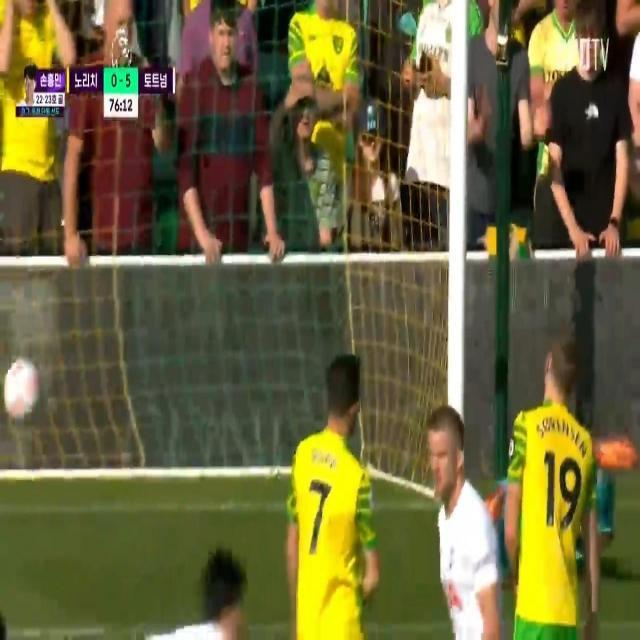ball: (1, 345, 66, 428)
player: (286, 337, 383, 640), (513, 329, 602, 640), (419, 395, 502, 640)
